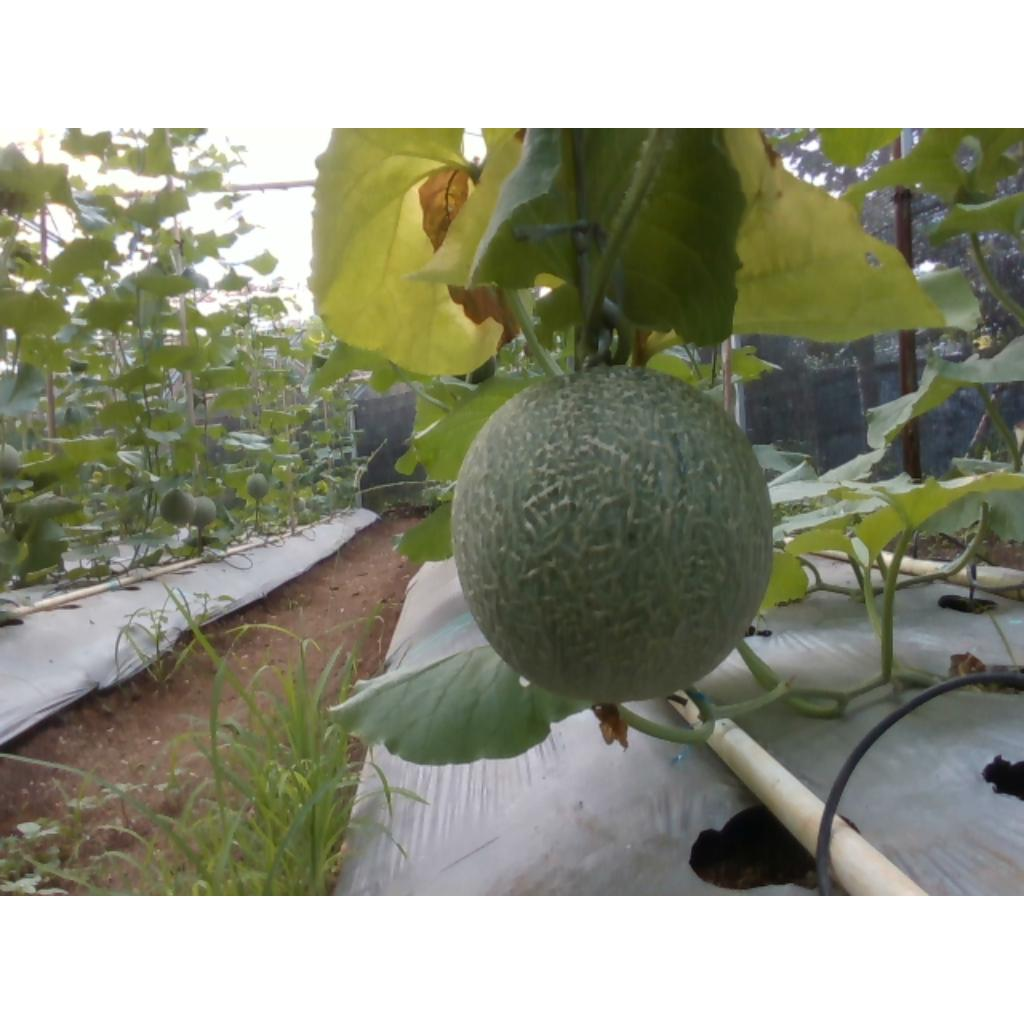melon: (453, 366, 774, 702)
